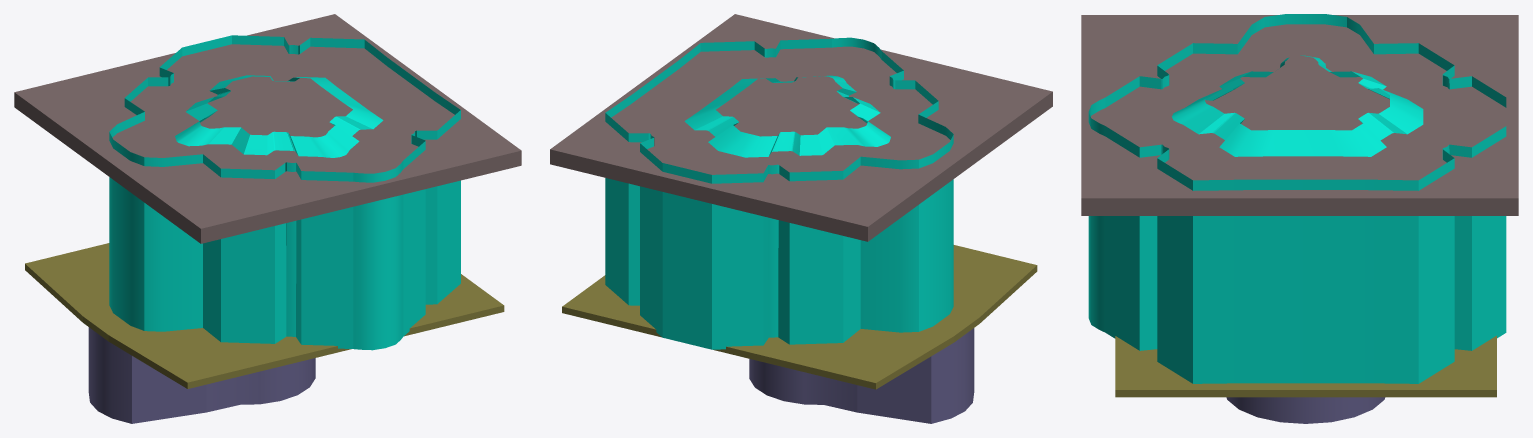
The model's file is Housing.fbx.
3 views of the same model, side by side, from view 1: azimuth 30°, elevation 25°; view 2: azimuth 150°, elevation 25°; view 3: azimuth 270°, elevation 25° (orthographic). The views are drawn at different scales.
Visible parts, largest first — view 1: Walls_Geo, Roof_Geo, MainFloor_Geo, LowerWalls_Geo; view 2: Walls_Geo, Roof_Geo, MainFloor_Geo, LowerWalls_Geo; view 3: Walls_Geo, Roof_Geo, MainFloor_Geo, LowerWalls_Geo.
Boxes of the visible parts, x1,y1,x2,y2 form: Walls_Geo: (109,35,460,350); Roof_Geo: (14,14,521,243); MainFloor_Geo: (25,243,504,388); LowerWalls_Geo: (88,327,315,423); Walls_Geo: (605,37,953,349); Roof_Geo: (550,14,1052,241); MainFloor_Geo: (562,245,1037,389); LowerWalls_Geo: (749,328,974,423); Walls_Geo: (1088,14,1506,383); Roof_Geo: (1081,15,1518,215); MainFloor_Geo: (1115,335,1496,397); LowerWalls_Geo: (1226,397,1385,423).
Bounding box in the file's own units: 1167 × 893 × 1144.
